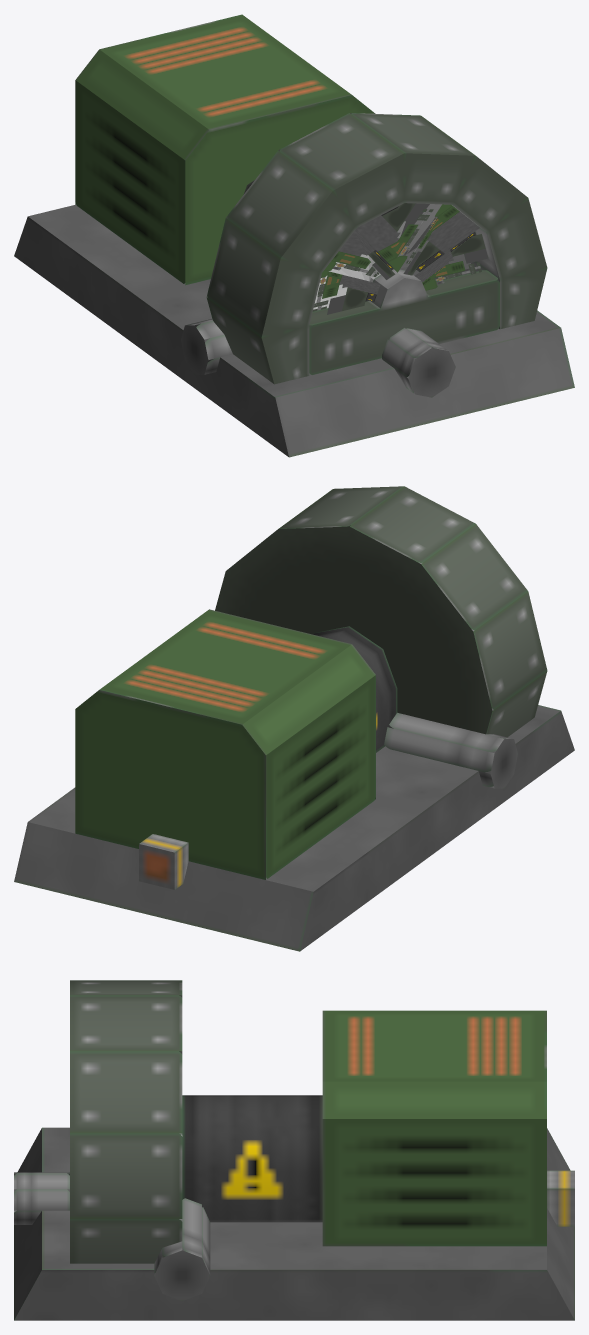
Rendered from turbine.obj.
3 renders of one model, top to bottom at view 1: azimuth 30°, elevation 25°; view 2: azimuth 150°, elevation 25°; view 3: azimuth 270°, elevation 25°, orthographic.
Visible parts, largest first — view 1: Body, Glass_Glaass, Blades; view 2: Body; view 3: Body.
Part boxes in pixels (<box>): Body: <box>14,14,574,457</box>; Glass_Glaass: <box>312,203,488,314</box>; Blades: <box>313,204,470,309</box>; Body: <box>14,486,574,951</box>; Body: <box>14,980,574,1320</box>.
Size of the model in its own units: 3.25 by 2.5 by 5.
